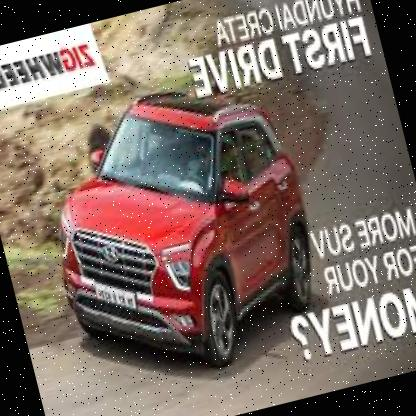car: (16, 55, 346, 409)
